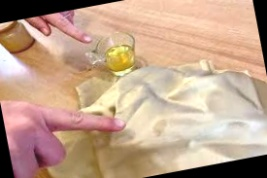oil: (146, 115, 178, 142)
